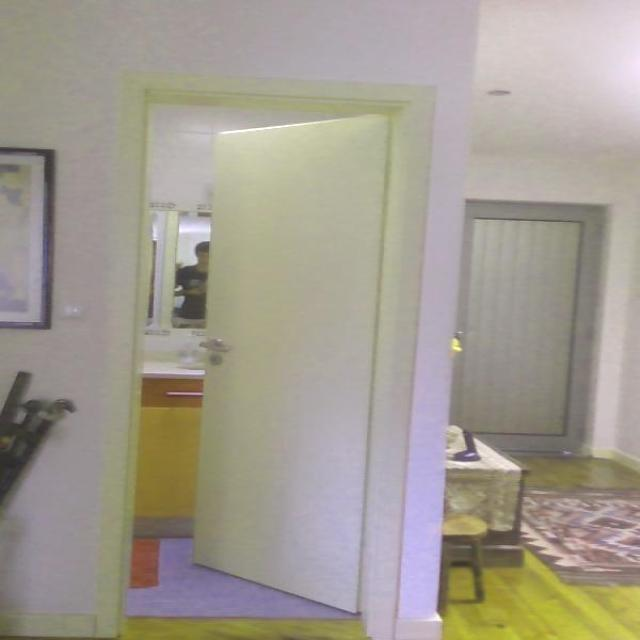door: (191, 112, 390, 614)
